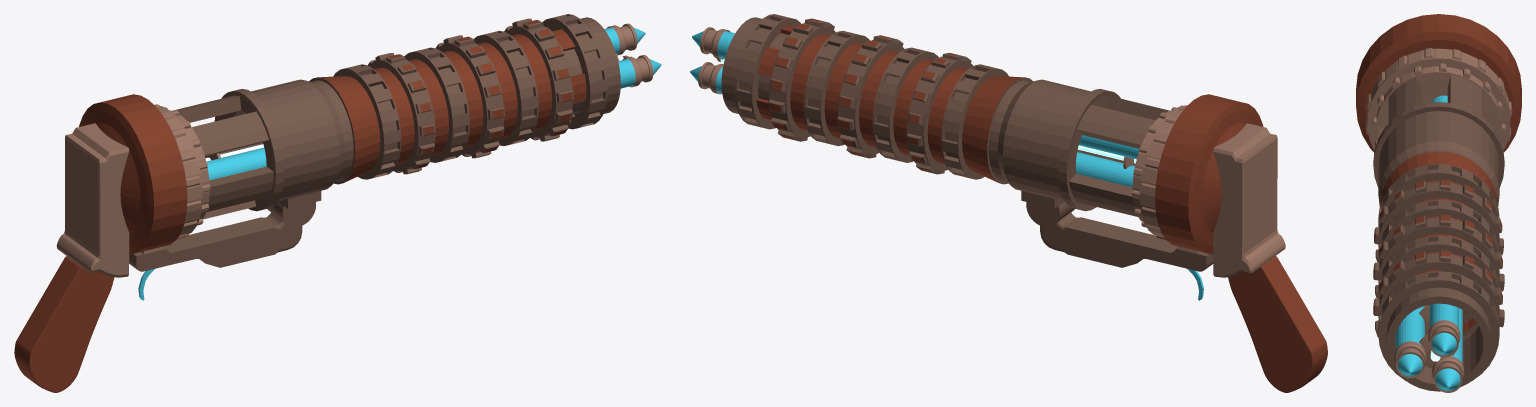
The model's file is weapon.fbx.
3 views of the same model, side by side, from view 1: azimuth 30°, elevation 25°; view 2: azimuth 150°, elevation 25°; view 3: azimuth 270°, elevation 25° (orthographic). The views are drawn at different scales.
Parts seen in each view (by area): view 1: Cylinder, Cylinder.004, Cube, Cube.004, Cylinder.001, Cube.002, Cylinder.006; view 2: Cylinder, Cylinder.004, Cube, Cube.004, Cylinder.001, Cube.002, Cylinder.006; view 3: Cylinder, Cylinder.001, Cylinder.004.
Part boxes in pixels (left/top/right/bottom): Cylinder: left=173, top=14, right=620, bottom=219; Cylinder.004: left=79, top=94, right=187, bottom=254; Cube: left=56, top=123, right=129, bottom=277; Cube.004: left=14, top=256, right=114, bottom=392; Cylinder.001: left=154, top=23, right=661, bottom=239; Cube.002: left=129, top=212, right=302, bottom=271; Cylinder.006: left=267, top=201, right=315, bottom=226; Cylinder: left=721, top=14, right=1170, bottom=216; Cylinder.004: left=1155, top=94, right=1263, bottom=254; Cube: left=1213, top=123, right=1285, bottom=277; Cube.004: left=1228, top=256, right=1327, bottom=392; Cylinder.001: left=690, top=27, right=1187, bottom=239; Cube.002: left=1040, top=212, right=1213, bottom=271; Cylinder.006: left=1026, top=201, right=1074, bottom=226; Cylinder: left=1373, top=74, right=1504, bottom=391; Cylinder.001: left=1365, top=48, right=1512, bottom=392; Cylinder.004: left=1356, top=14, right=1521, bottom=152.
Size of the model in its own units: 367 by 148 by 78.99.
